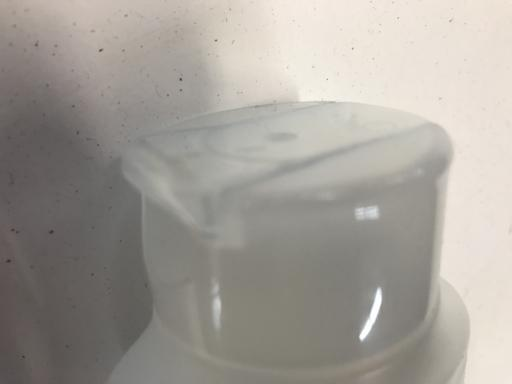plastic: (0, 6, 456, 382)
